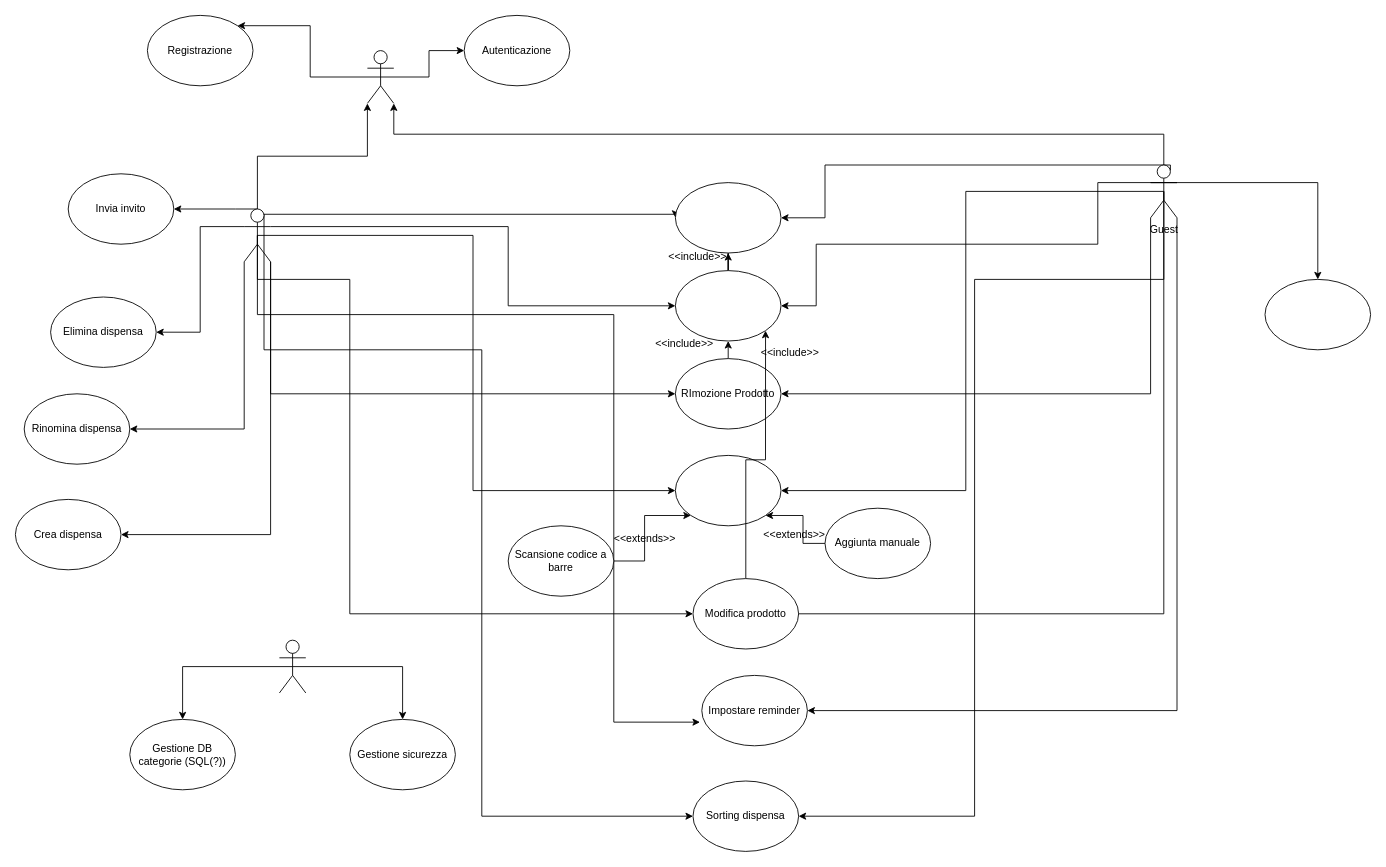
Image size: 1386x867. Some labels were removed from this diagram. Each missing label, with the centre of its shape:
"Accetta invito" goes at (1317,314).
"Aggiunta Prodotto" goes at (728,490).
"Owner" goes at (257,235).
"Super Admin" goes at (292,666).
"User" goes at (380,76).
"Visualizza contenuto dispensa" goes at (728,217).
"Visualizza informazioni sul prodotto" goes at (728,305).
